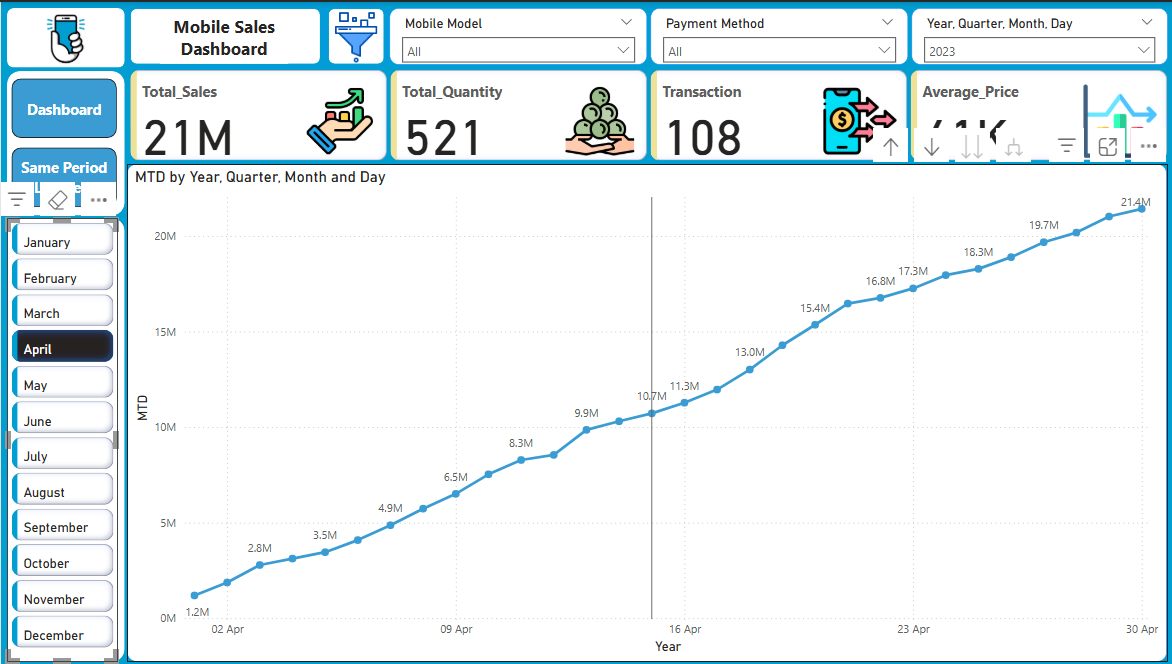

This screenshot's page, from the dashboard's own definition file:
{"tool":"powerbi","page":{"name":"MTD Report","canvas":[1280,725],"ordinal":1},"visuals":[{"type":"shape","box":[6.5,6.5,128.5,65.1],"z":0},{"type":"image","box":[26,0,89.5,79.7],"z":1000},{"type":"shape","box":[6.5,74.8,128.5,157.8],"z":2000},{"type":"shape","box":[6.5,235.8,128.5,484.7],"z":3000},{"type":"advancedSlicerVisual","fields":{"Values":["Custom_Calender.Date.Variation.Date Hierarchy.Month"]},"box":[6.5,235.8,122,484.7],"z":4000},{"type":"cardVisual","fields":{"Data":["Sales_Data.Total_Sales","Sales_Data.Total_Quantity","Sales_Data.Transaction","Sales_Data.Average_Price"]},"box":[136.3,68.1,1143.2,109],"z":5000},{"type":"slicer","fields":{"Values":["Sales_Data.Mobile Model"]},"box":[424.5,6.5,281.4,61.8],"z":6000},{"type":"slicer","fields":{"Values":["Sales_Data.Payment Method"]},"box":[709.2,6.5,281.4,61.8],"z":7000},{"type":"slicer","fields":{"Values":["Custom_Calender.Date.Variation.Date Hierarchy.Year","Custom_Calender.Date.Variation.Date Hierarchy.Quarter","Custom_Calender.Date.Variation.Date Hierarchy.Month","Custom_Calender.Date.Variation.Date Hierarchy.Day"]},"box":[993.8,6.5,279.8,61.8],"z":8000},{"type":"shape","box":[353,3.3,68.3,68.3],"z":9000},{"type":"image","box":[315.5,4.9,143.1,66.7],"z":10000},{"type":"shape","box":[138.3,3.3,214.7,68.3],"z":11000},{"type":"textbox","box":[174,8.1,139.9,59],"z":12000},{"type":"lineChart","fields":{"Y":["Sales_Data.MTD"],"Category":["Custom_Calender.Date.Variation.Date Hierarchy.Year","Custom_Calender.Date.Variation.Date Hierarchy.Quarter","Custom_Calender.Date.Variation.Date Hierarchy.Month","Custom_Calender.Date.Variation.Date Hierarchy.Day"]},"box":[138.3,177.3,1135.3,543.3],"z":13000},{"type":"pageNavigator","box":[11.4,83,115.5,141.5],"z":14000}]}

Visuals, with their boxes on the page's 1280x725 design canvas (x1, y1, x2, y2). These are canvas units, not pixel positions in the 1172x664 screenshot, which may show the page scaled, cropped or inside an application window:
shape: BBox(6, 6, 135, 72)
image: BBox(26, 0, 116, 80)
shape: BBox(6, 75, 135, 233)
shape: BBox(6, 236, 135, 720)
advancedSlicerVisual - Custom_Calender.Date.Variation.Date Hierarchy.Month: BBox(6, 236, 128, 720)
cardVisual - Sales_Data.Total_Sales x Sales_Data.Total_Quantity: BBox(136, 68, 1280, 177)
slicer - Sales_Data.Mobile Model: BBox(424, 6, 706, 68)
slicer - Sales_Data.Payment Method: BBox(709, 6, 991, 68)
slicer - Custom_Calender.Date.Variation.Date Hierarchy.Year x Custom_Calender.Date.Variation.Date Hierarchy.Quarter: BBox(994, 6, 1274, 68)
shape: BBox(353, 3, 421, 72)
image: BBox(316, 5, 459, 72)
shape: BBox(138, 3, 353, 72)
textbox: BBox(174, 8, 314, 67)
lineChart - Sales_Data.MTD x Custom_Calender.Date.Variation.Date Hierarchy.Year: BBox(138, 177, 1274, 721)
pageNavigator: BBox(11, 83, 127, 224)
